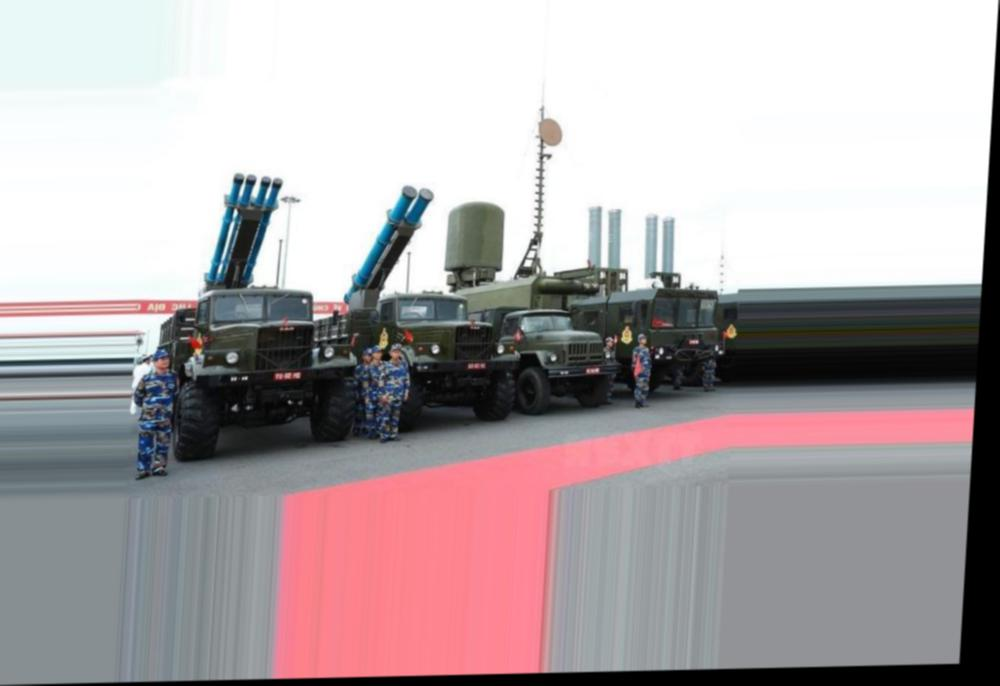License_Plate: (270, 370, 305, 383), (466, 361, 491, 374), (585, 368, 602, 377), (686, 338, 704, 346)
